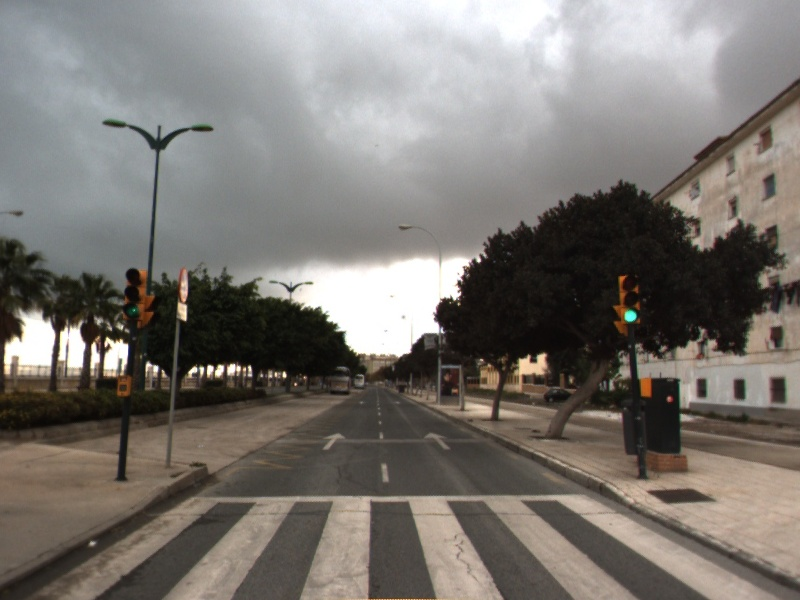STRAIGHT: (422, 430, 454, 452), (320, 430, 348, 452)
